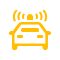SEV_INF: (5, 6, 55, 53)
